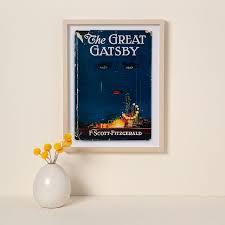book: (61, 18, 167, 153)
